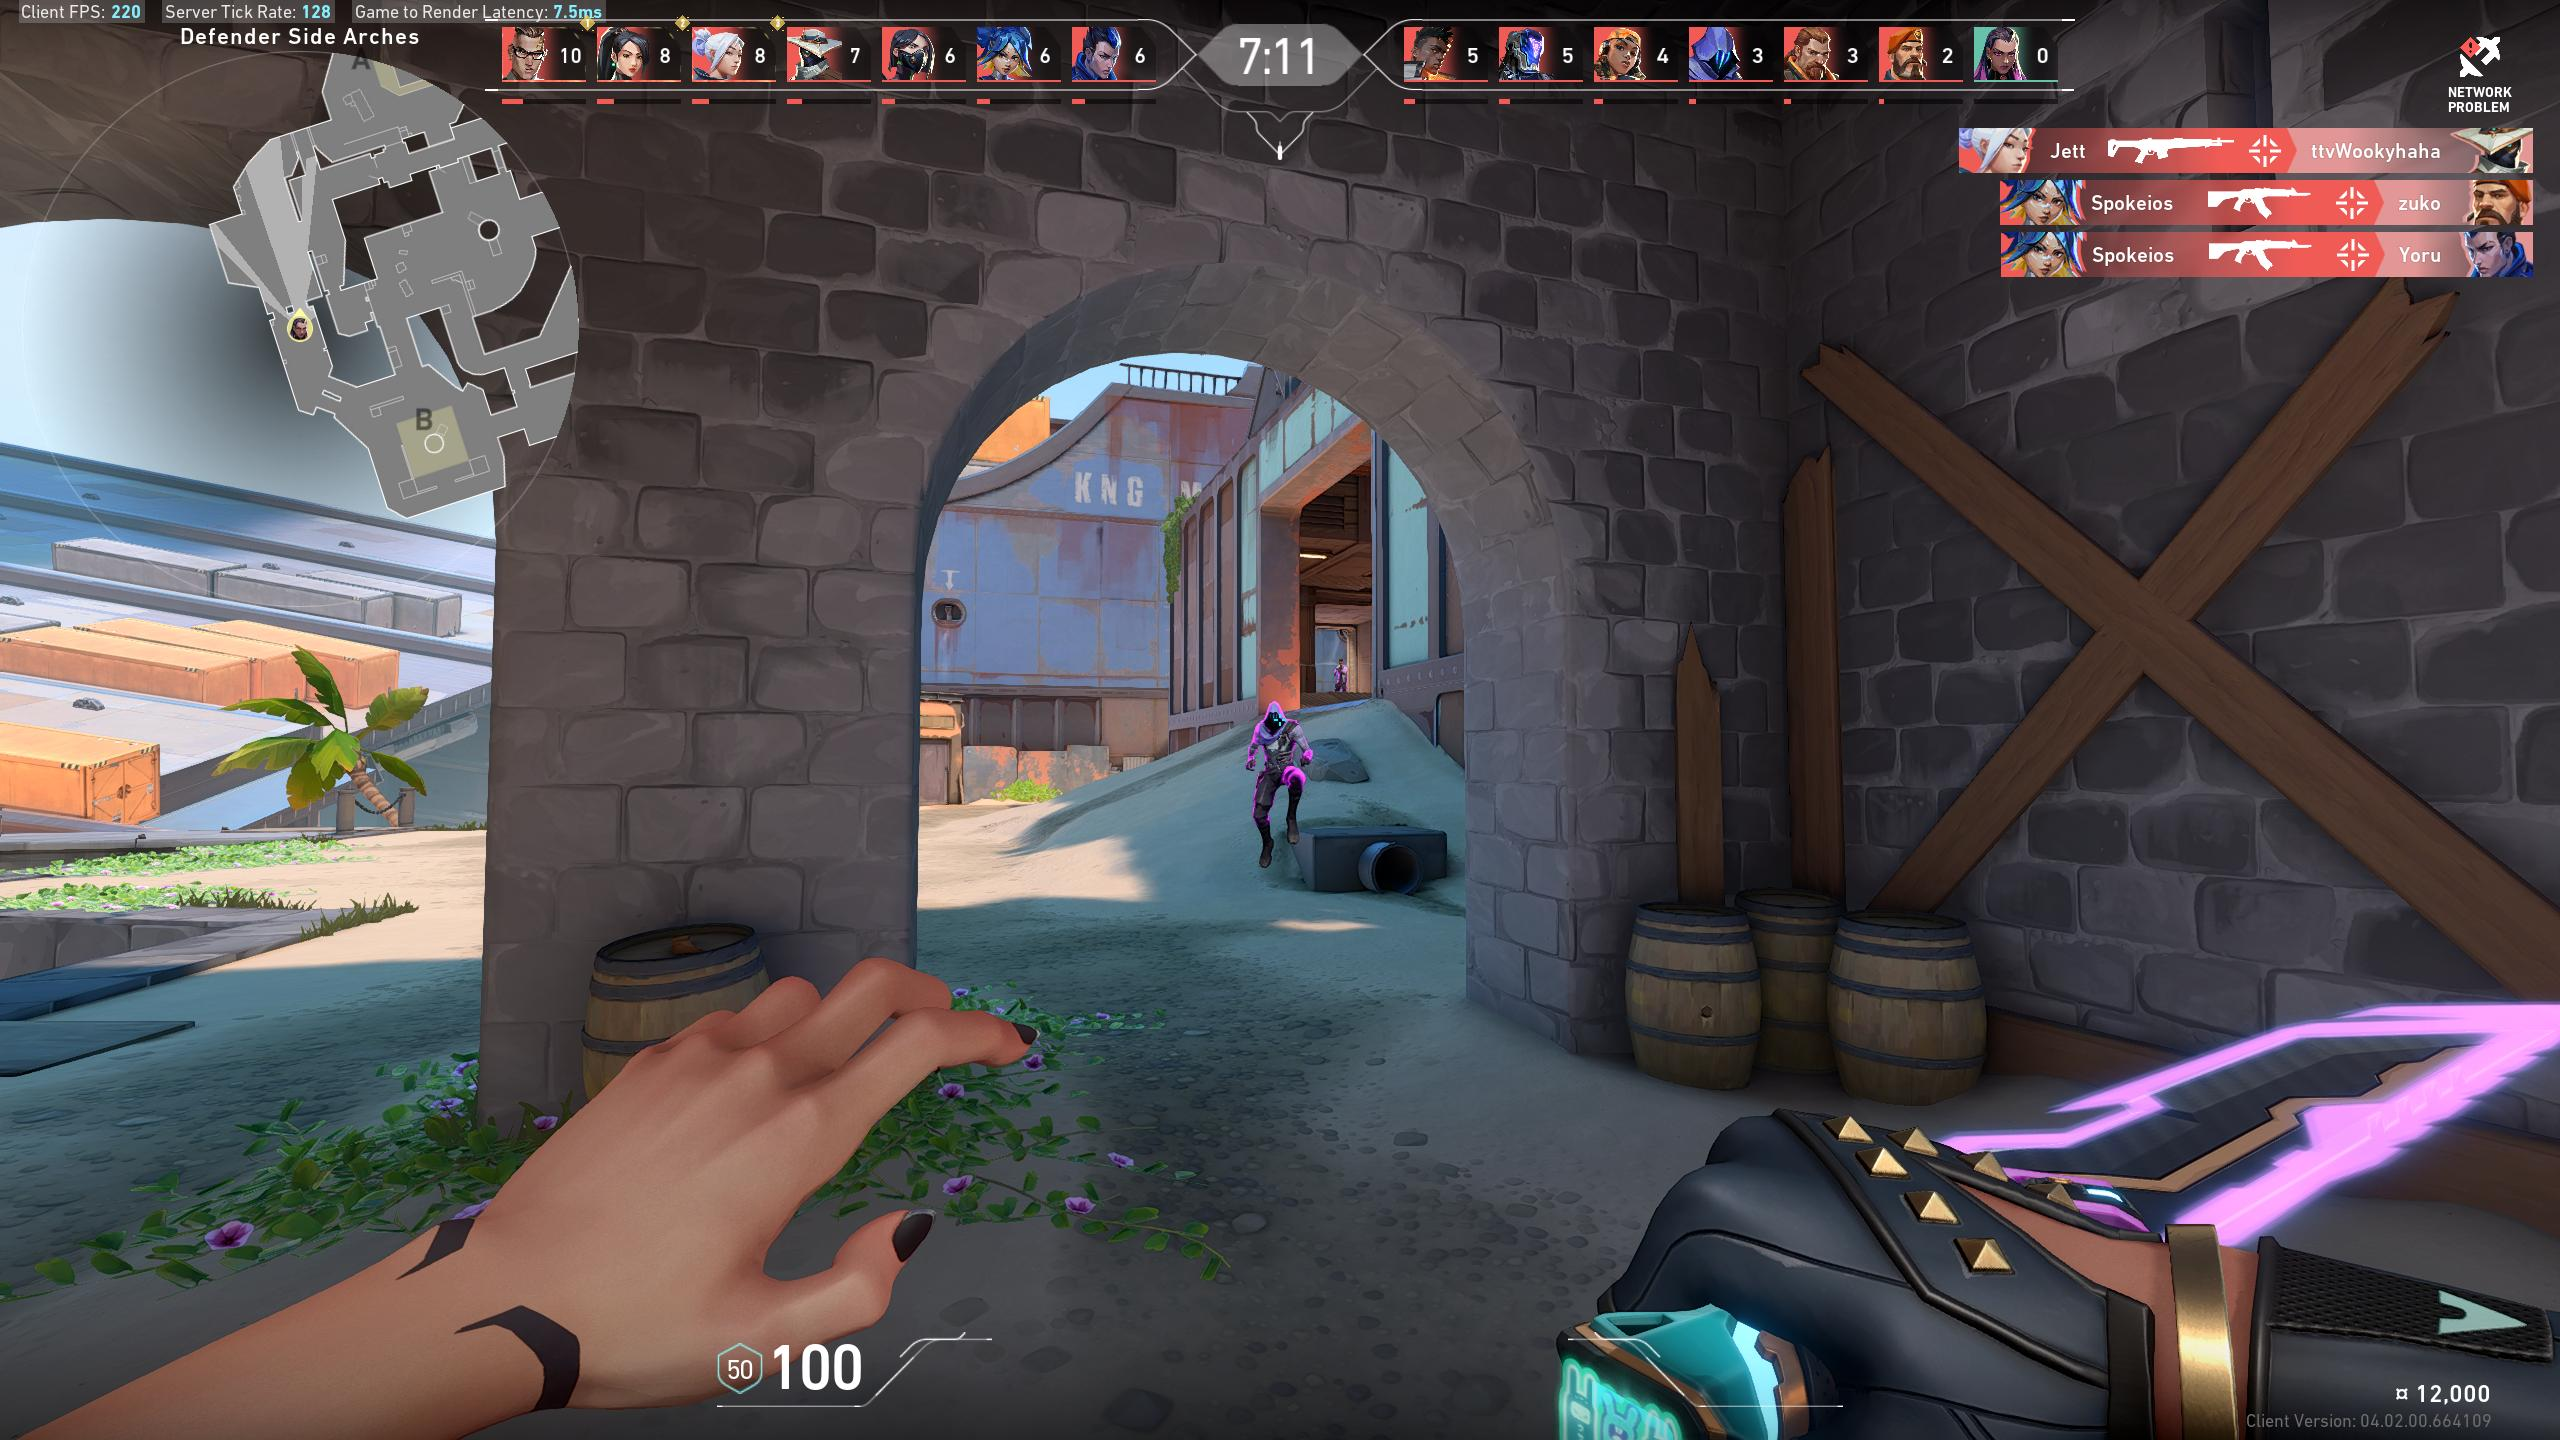enemyBody: (1264, 730, 1291, 768), (1338, 666, 1345, 679)
enemyHead: (1268, 710, 1280, 726), (1340, 659, 1343, 666)
